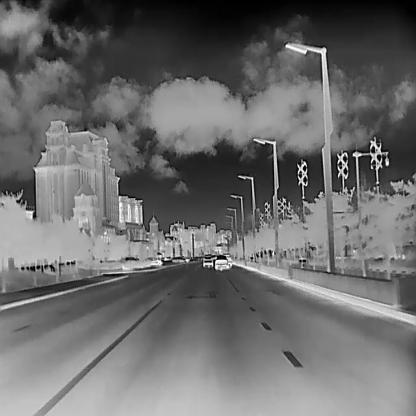car: (122, 255, 143, 269), (214, 253, 227, 270), (222, 252, 232, 267), (147, 255, 162, 265), (203, 253, 213, 267), (171, 255, 185, 262)
